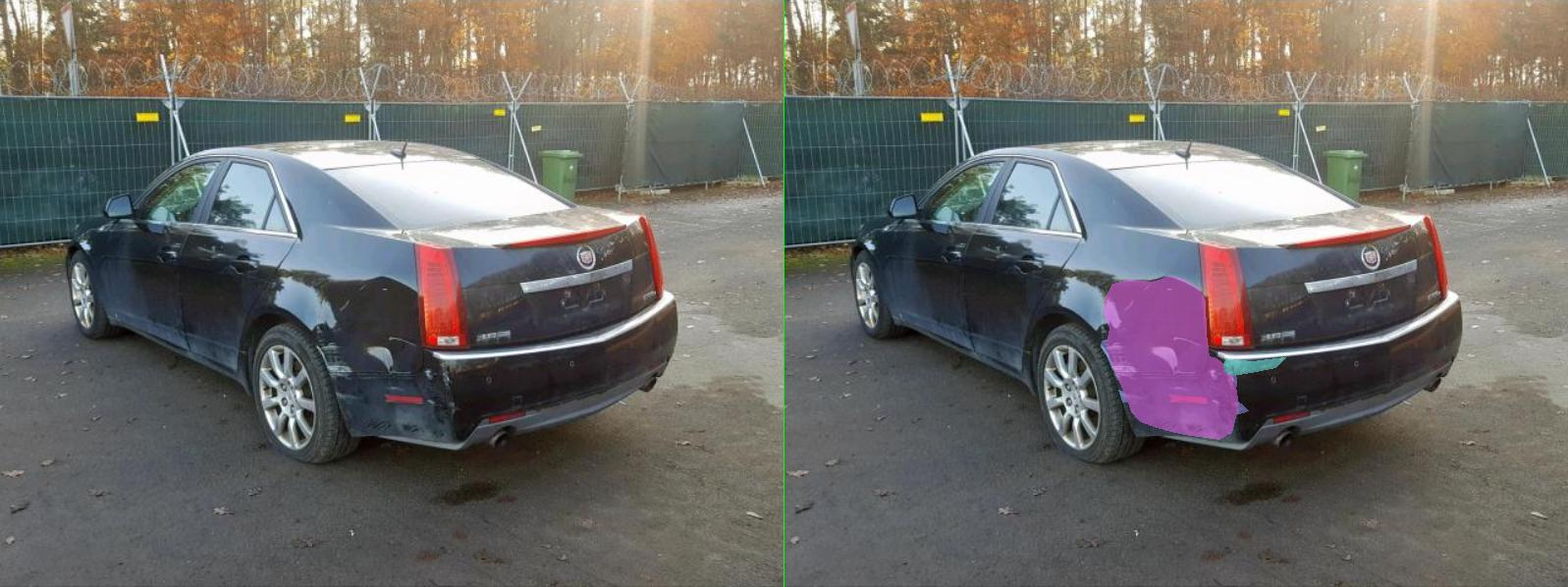Dent: (639, 276, 908, 439)
Flaking: (878, 357, 1002, 375)
Scratch: (633, 340, 711, 380), (774, 337, 843, 349), (668, 390, 727, 401), (674, 298, 703, 312), (884, 370, 904, 390), (898, 400, 927, 413), (715, 282, 741, 294), (849, 369, 872, 382), (772, 386, 810, 391), (857, 400, 880, 405)
